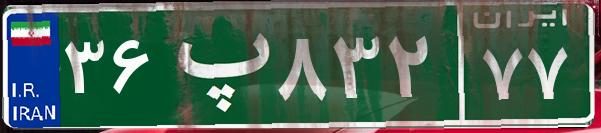2: (385, 28, 445, 110)
3: (330, 28, 385, 110), (57, 26, 110, 107)
6: (110, 28, 158, 105)
7: (475, 38, 525, 113), (525, 38, 570, 115)
8: (273, 28, 330, 110)
پ: (158, 15, 273, 115)
